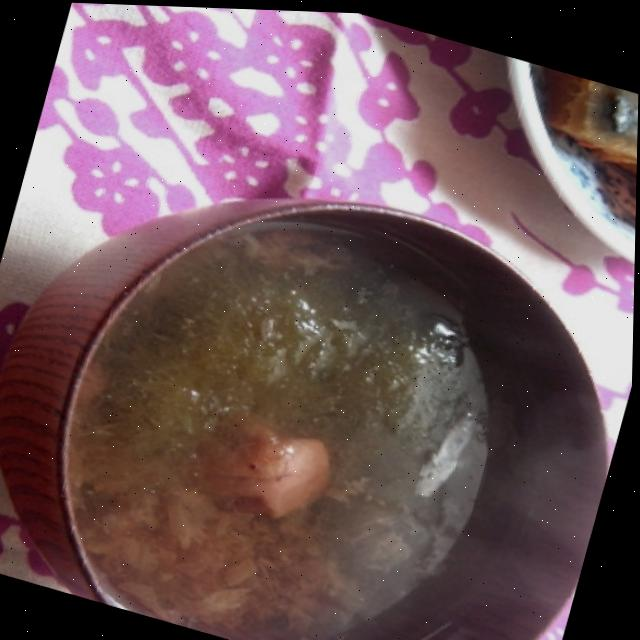汤锅炖物: (2, 130, 638, 640)
